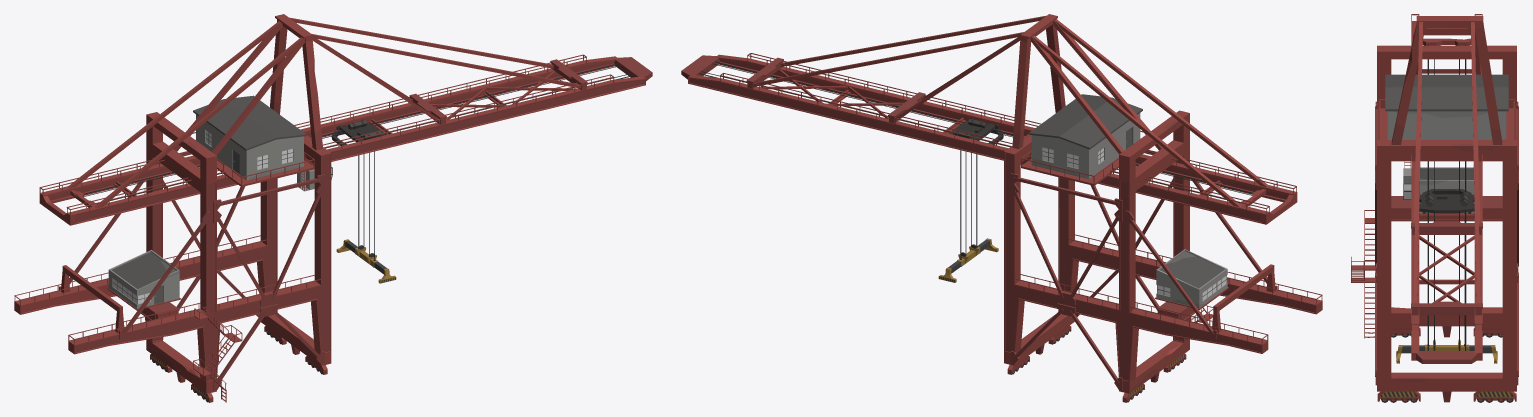
File: SM_Bldg_City_Harbour_Crane_Big.fbx
The picture shows the model from 3 angles, left to right: view 1: azimuth 30°, elevation 25°; view 2: azimuth 150°, elevation 25°; view 3: azimuth 270°, elevation 25°; orthographic projection. The views are drawn at different scales.
Parts seen in each view (by area): view 1: SM_Bldg_City_Harbour_Crane_Big, SM_Bldg_City_Harbour_Crane_Big_Spreader, SM_Bldg_City_Harbour_Crane_Big_Trolley; view 2: SM_Bldg_City_Harbour_Crane_Big, SM_Bldg_City_Harbour_Crane_Big_Spreader, SM_Bldg_City_Harbour_Crane_Big_Trolley; view 3: SM_Bldg_City_Harbour_Crane_Big, SM_Bldg_City_Harbour_Crane_Big_Trolley, SM_Bldg_City_Harbour_Crane_Big_Spreader.
Part boxes in pixels (x1,y1,x2,y2): SM_Bldg_City_Harbour_Crane_Big: [14, 14, 652, 402]; SM_Bldg_City_Harbour_Crane_Big_Spreader: [336, 151, 396, 283]; SM_Bldg_City_Harbour_Crane_Big_Trolley: [331, 119, 385, 145]; SM_Bldg_City_Harbour_Crane_Big: [681, 14, 1322, 402]; SM_Bldg_City_Harbour_Crane_Big_Spreader: [938, 150, 998, 282]; SM_Bldg_City_Harbour_Crane_Big_Trolley: [949, 118, 1003, 144]; SM_Bldg_City_Harbour_Crane_Big: [1351, 14, 1518, 402]; SM_Bldg_City_Harbour_Crane_Big_Trolley: [1419, 189, 1474, 213]; SM_Bldg_City_Harbour_Crane_Big_Spreader: [1396, 213, 1497, 363].
Bounding box in the file's own units: 104 × 54.79 × 21.76.
